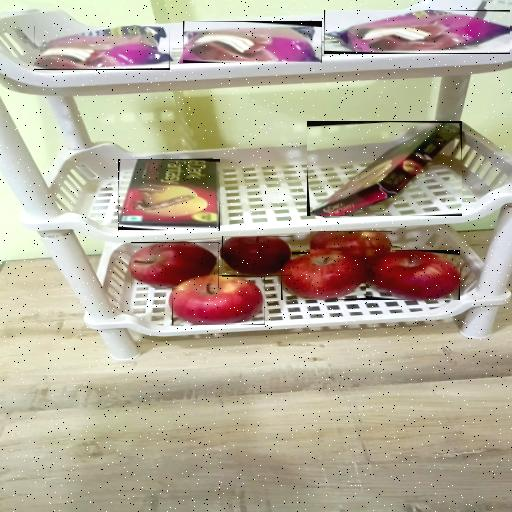Apple: (366, 250, 460, 300), (172, 275, 265, 325), (281, 252, 367, 300), (131, 242, 219, 288), (310, 232, 392, 270), (222, 236, 292, 276)
Choco Fills: (307, 121, 462, 216), (118, 160, 220, 232)
Choco Pie: (324, 10, 510, 54), (34, 26, 170, 70), (183, 21, 322, 63)
